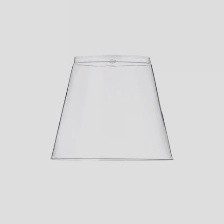glass: (42, 52, 177, 167)
